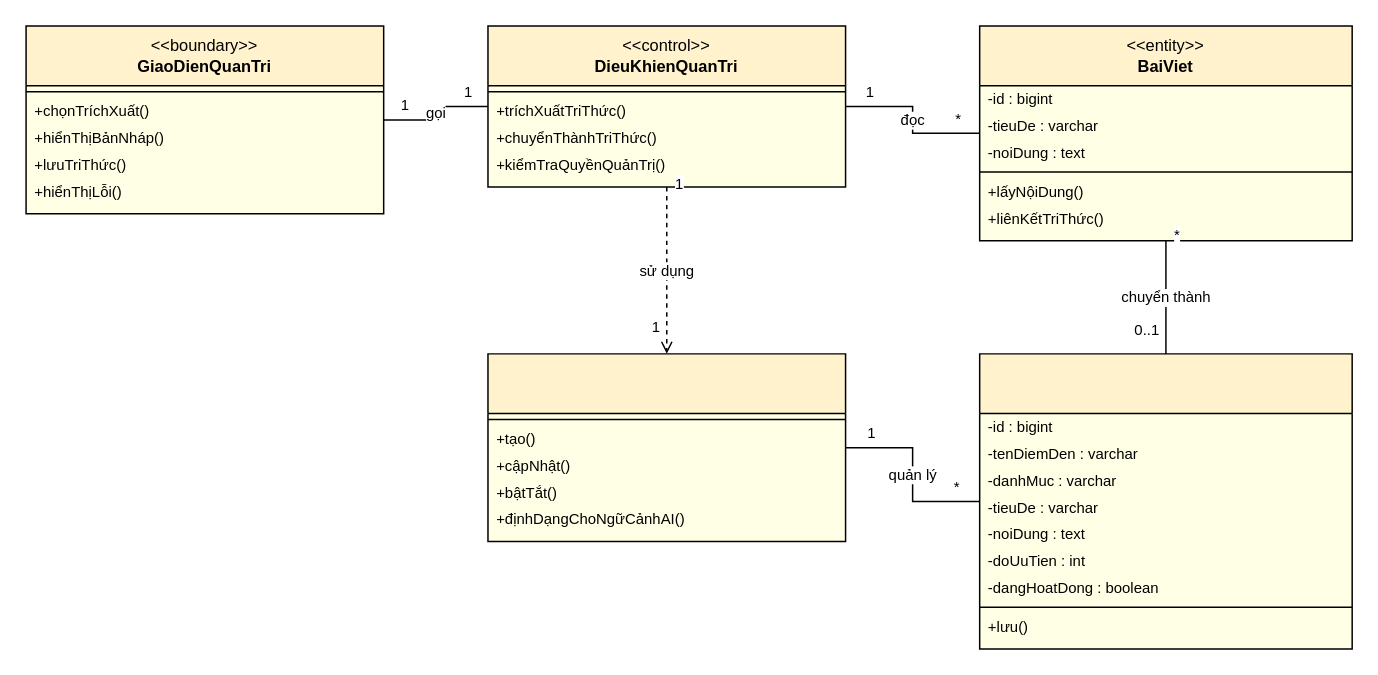
This 1378x675 diagram has some shape labels left out. Each missing label, with the box of its shape:
<<control>> DichVuTriThuc: (486, 352, 846, 542)
<<entity>> TriThucDiemDen: (978, 352, 1352, 649)
